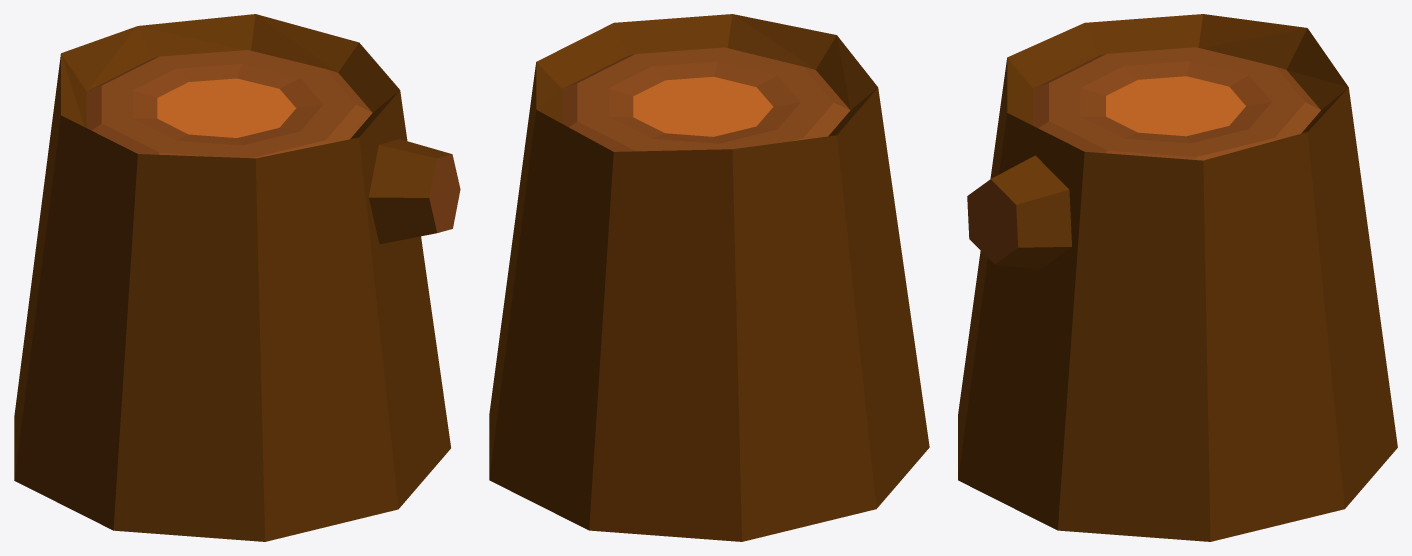
File: Proto_Vegetation_Tree_Stump_01.fbx
3 renders of one model, left to right at view 1: azimuth 30°, elevation 25°; view 2: azimuth 150°, elevation 25°; view 3: azimuth 270°, elevation 25°, orthographic.
Parts seen in each view (by area): view 1: Proto_Vegetation_Tree_Stump_01; view 2: Proto_Vegetation_Tree_Stump_01; view 3: Proto_Vegetation_Tree_Stump_01.
Boxes of the visible parts, left/top/right/bottom form: Proto_Vegetation_Tree_Stump_01: left=14, top=14, right=460, bottom=541; Proto_Vegetation_Tree_Stump_01: left=489, top=14, right=929, bottom=541; Proto_Vegetation_Tree_Stump_01: left=958, top=14, right=1397, bottom=541.
Size of the model in its own units: 0.2992 by 0.2748 by 0.2947.
